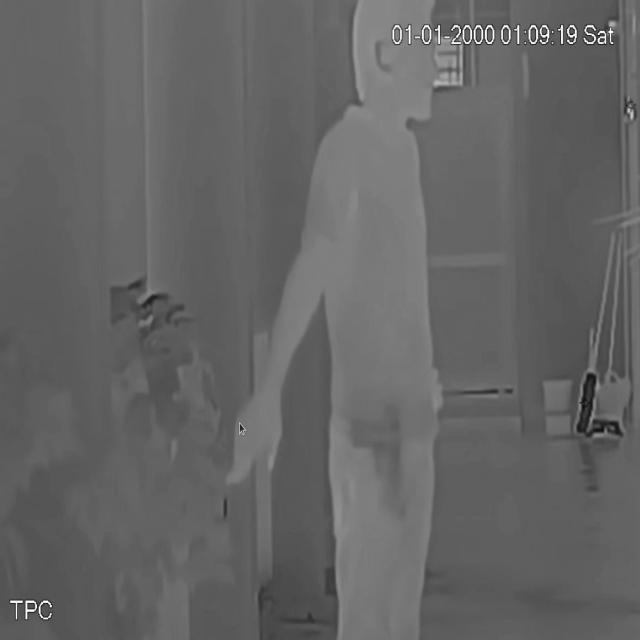Weapon: (338, 383, 419, 533)
